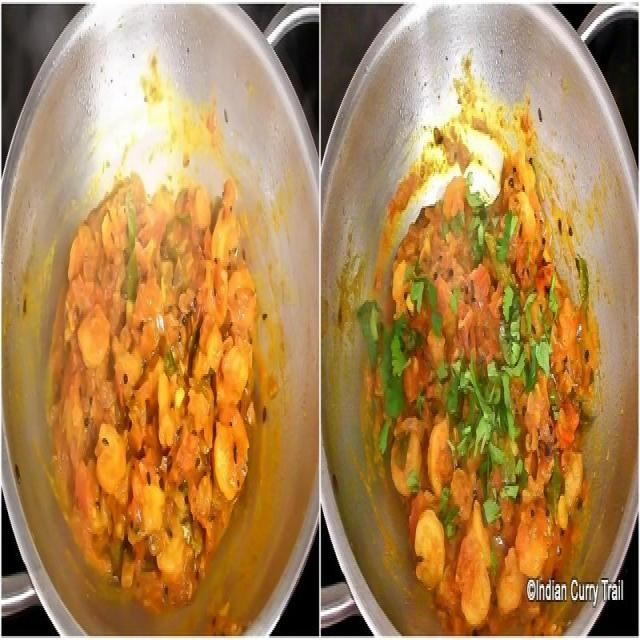prawn thokku: (384, 122, 592, 617)
